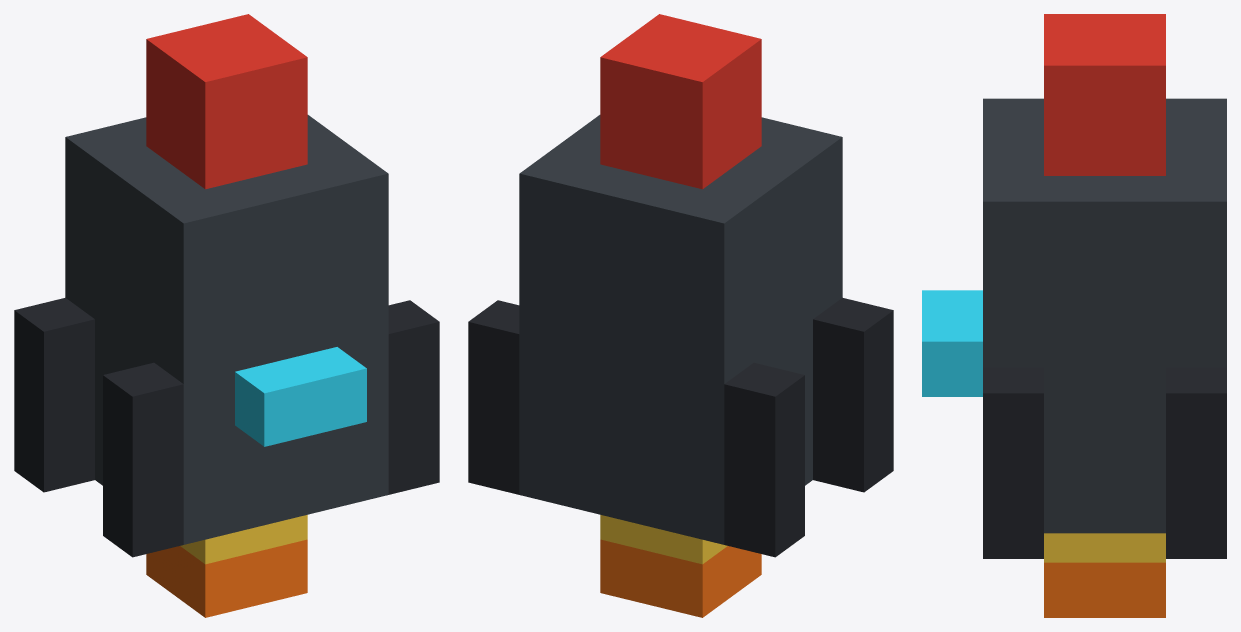
Rendered from fx_missile.glb.
3 views of the same model, side by side, from view 1: azimuth 30°, elevation 25°; view 2: azimuth 150°, elevation 25°; view 3: azimuth 270°, elevation 25° (orthographic). The views are drawn at different scales.
Visible parts, largest first — view 1: Body mesh, Fin mesh, Nose mesh, Flame mesh, Window mesh; view 2: Body mesh, Fin mesh, Nose mesh, Flame mesh; view 3: Body mesh, Fin mesh, Nose mesh, Flame mesh, Window mesh.
Boxes of the visible parts, box(x1,y1,x2,y2) form: Body mesh: box(65, 115, 388, 544); Fin mesh: box(14, 297, 439, 557); Nose mesh: box(146, 14, 307, 189); Flame mesh: box(146, 515, 307, 617); Window mesh: box(235, 347, 366, 446); Body mesh: box(519, 115, 842, 544); Fin mesh: box(468, 297, 893, 557); Nose mesh: box(600, 14, 761, 189); Flame mesh: box(600, 515, 761, 617); Body mesh: box(983, 98, 1226, 533); Fin mesh: box(983, 367, 1226, 558); Nose mesh: box(1044, 14, 1165, 175); Flame mesh: box(1044, 533, 1165, 617); Window mesh: box(922, 290, 982, 396).
Size of the model in its own units: 6 by 10 by 5.
1 material, 1 textured.
